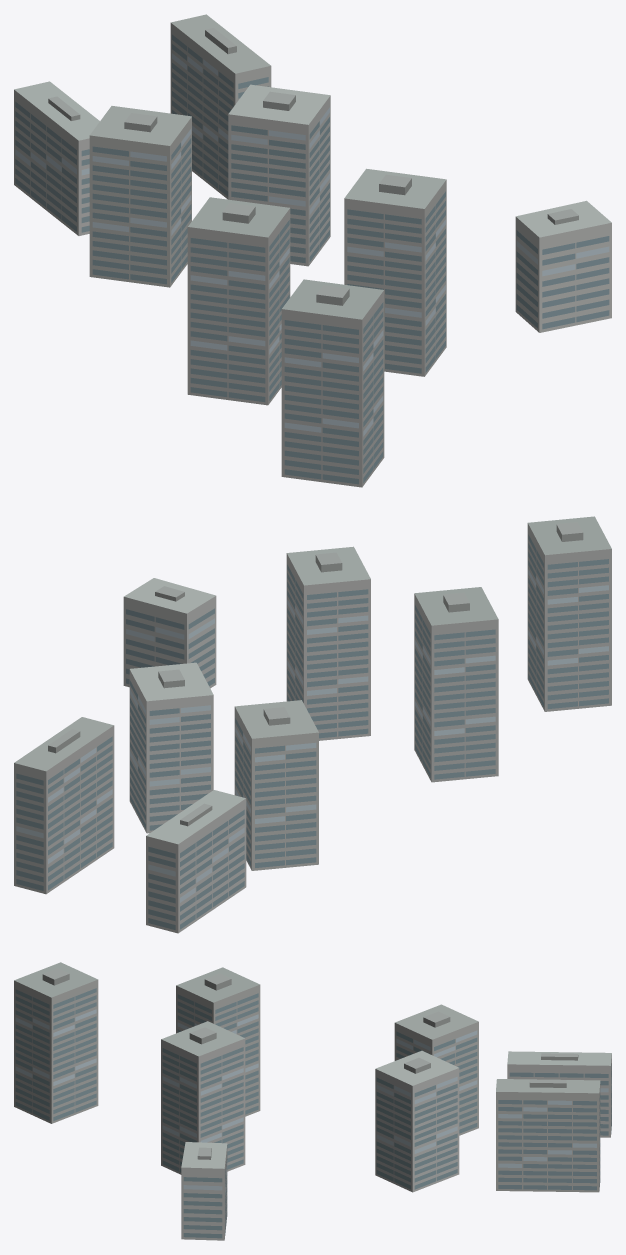
Rendered from apt-a10025227.glb.
3 views of the same model, one above another, from view 1: azimuth 30°, elevation 25°; view 2: azimuth 150°, elevation 25°; view 3: azimuth 270°, elevation 25° (orthographic). The views are drawn at different scales.
Parts seen in each view (by area): view 1: apt-a10025227; view 2: apt-a10025227; view 3: apt-a10025227.
Part boxes in pixels (x1,y1,x2,y2): apt-a10025227: (14,14,611,487); apt-a10025227: (14,516,611,933); apt-a10025227: (14,962,611,1240).
Bounding box in the file's own units: 126 × 51 × 209.
